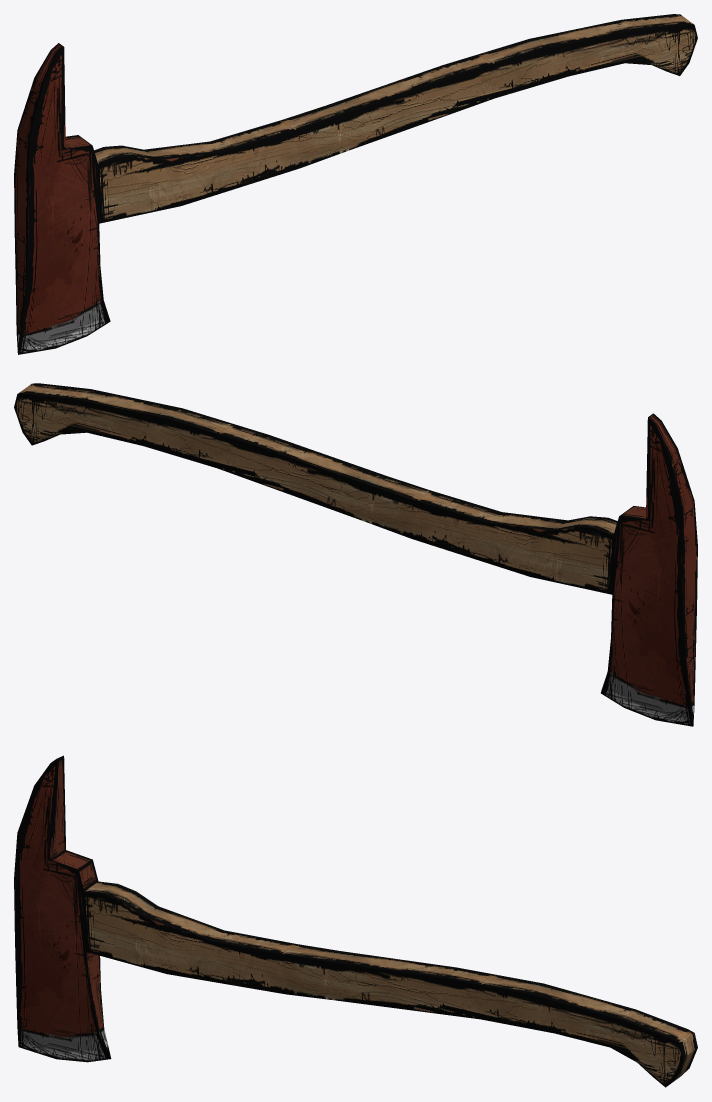
File: axe.obj
3 renders of one model, top to bottom at view 1: azimuth 30°, elevation 25°; view 2: azimuth 150°, elevation 25°; view 3: azimuth 330°, elevation 25°, orthographic.
Visible parts, largest first — view 1: twd_axe; view 2: twd_axe; view 3: twd_axe.
Boxes of the visible parts, x1=… form: twd_axe: x1=14, y1=14, x2=697, y2=354; twd_axe: x1=14, y1=383, x2=697, y2=726; twd_axe: x1=14, y1=755, x2=697, y2=1087.
Bounding box in the file's own units: 1.09 × 0.4707 × 0.0434.
Materials: 1 (1 with a texture image).
